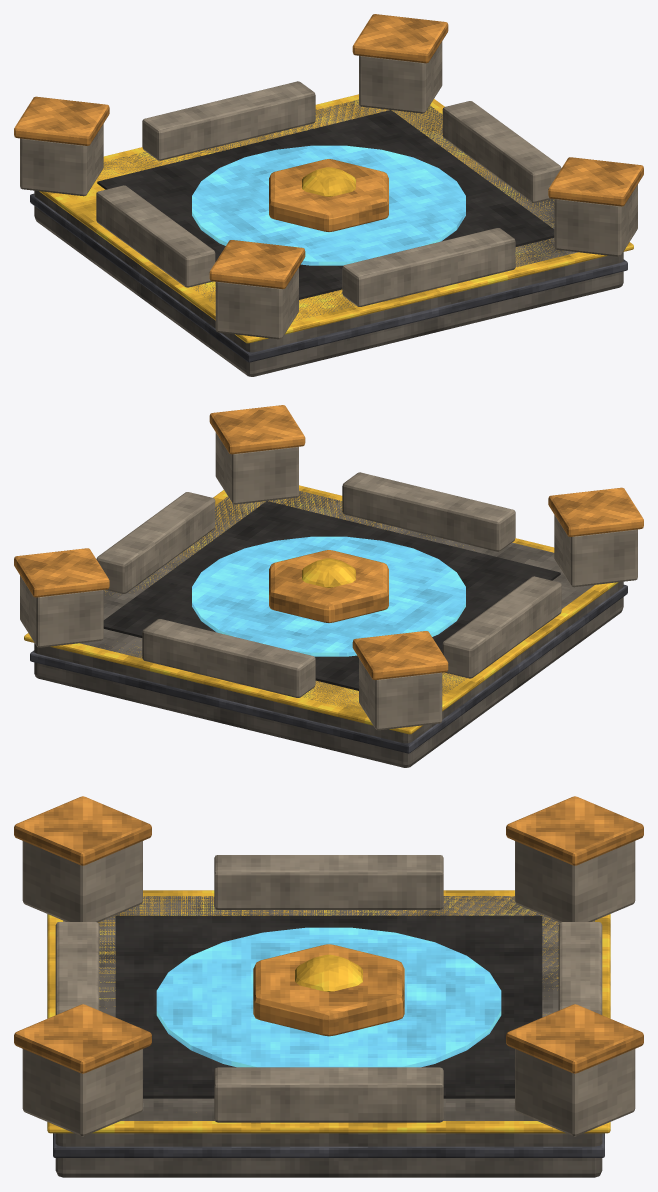
File: top_square.gltf
3 renders of one model, top to bottom at view 1: azimuth 30°, elevation 25°; view 2: azimuth 150°, elevation 25°; view 3: azimuth 270°, elevation 25°, orthographic. The views are drawn at different scales.
Visible parts, largest first — view 1: Tier3_stone_lite, Crown_stone, Tier4_rune, Crown_stone_lite, Crown_stone_dark, Crown_brass, Tier4_gold, Tier2_iron, shield, boss; view 2: Tier3_stone_lite, Crown_stone, Tier4_rune, Crown_stone_lite, Crown_stone_dark, Crown_brass, Tier4_gold, Tier2_iron, shield, boss; view 3: Tier3_stone_lite, Crown_stone_lite, Crown_stone, Tier4_rune, Crown_stone_dark, Crown_brass, Tier4_gold, shield, Tier2_iron, boss.
Boxes of the visible parts, left/top/right/bottom form: Tier3_stone_lite: left=96, top=81, right=561, bottom=306; Crown_stone: left=34, top=99, right=623, bottom=376; Tier4_rune: left=192, top=145, right=465, bottom=265; Crown_stone_lite: left=20, top=41, right=637, bottom=339; Crown_stone_dark: left=97, top=110, right=554, bottom=299; Crown_brass: left=14, top=14, right=643, bottom=289; Tier4_gold: left=39, top=94, right=633, bottom=343; Tier2_iron: left=30, top=193, right=627, bottom=362; shield: left=269, top=159, right=388, bottom=231; boss: left=302, top=167, right=355, bottom=196; Tier3_stone_lite: left=96, top=472, right=561, bottom=697; Crown_stone: left=34, top=490, right=623, bottom=767; Tier4_rune: left=192, top=536, right=465, bottom=656; Crown_stone_lite: left=20, top=432, right=637, bottom=730; Crown_stone_dark: left=103, top=501, right=560, bottom=690; Crown_brass: left=14, top=405, right=643, bottom=680; Tier4_gold: left=24, top=485, right=618, bottom=734; Tier2_iron: left=30, top=584, right=627, bottom=753; shield: left=269, top=550, right=388, bottom=622; boss: left=302, top=558, right=355, bottom=587; Tier3_stone_lite: left=55, top=855, right=602, bottom=1122; Crown_stone_lite: left=22, top=841, right=635, bottom=1136; Crown_stone: left=55, top=896, right=602, bottom=1177; Tier4_rune: left=156, top=927, right=501, bottom=1067; Crown_stone_dark: left=115, top=915, right=542, bottom=1098; Crown_brass: left=14, top=796, right=643, bottom=1073; Tier4_gold: left=47, top=890, right=610, bottom=1133; shield: left=253, top=944, right=404, bottom=1036; Tier2_iron: left=53, top=1133, right=604, bottom=1157; boss: left=295, top=954, right=362, bottom=991.
Bounding box in the file's own units: 1.01 × 0.2425 × 1.01.
Materials: 7 (7 with a texture image).
